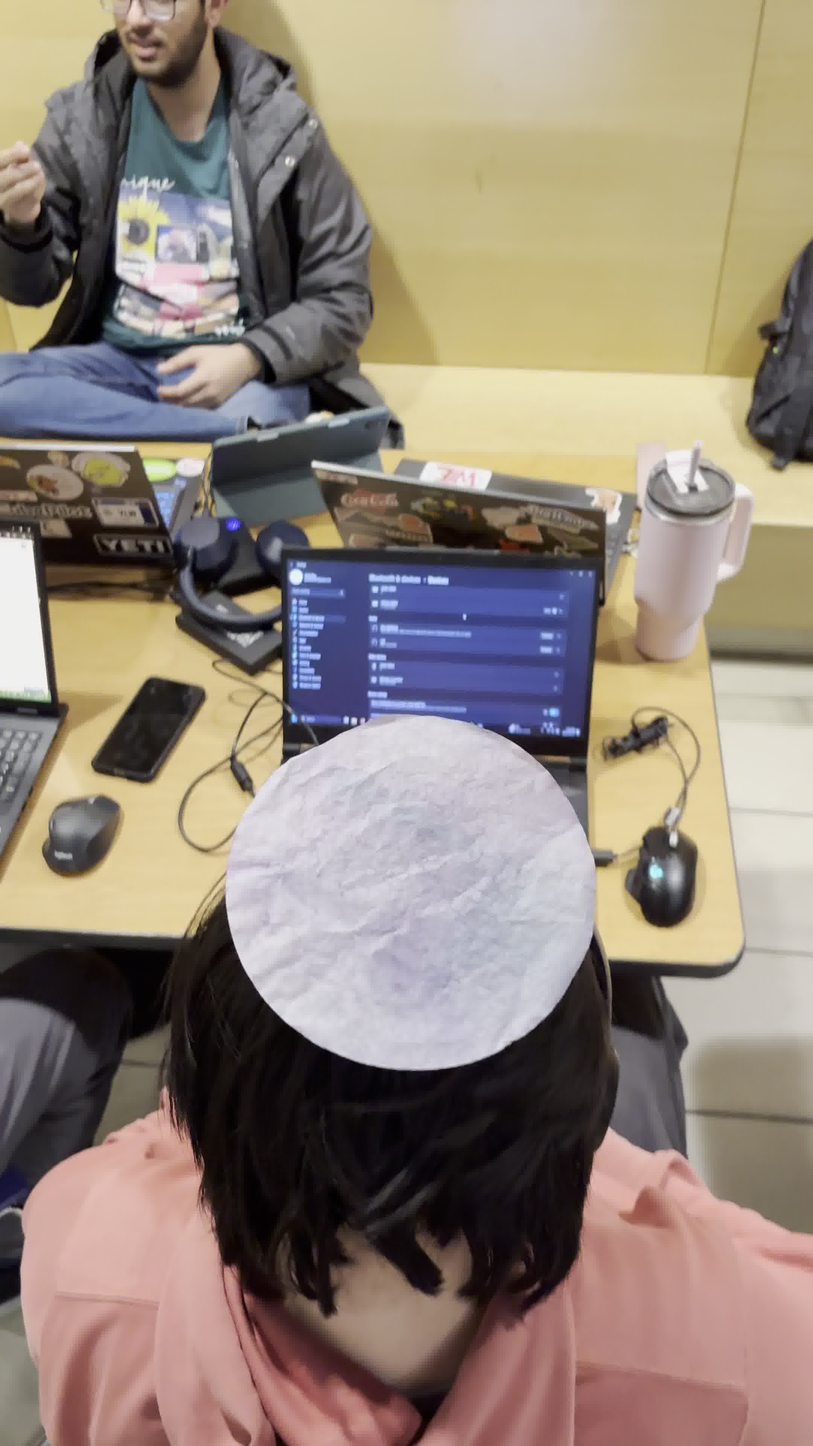Target: (220, 711, 594, 1072)
